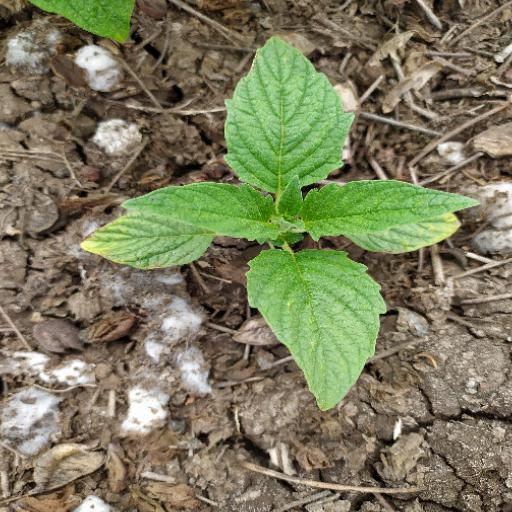crop: (83, 31, 466, 416)
